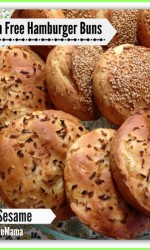hamburger_buns: (1, 95, 119, 207)
